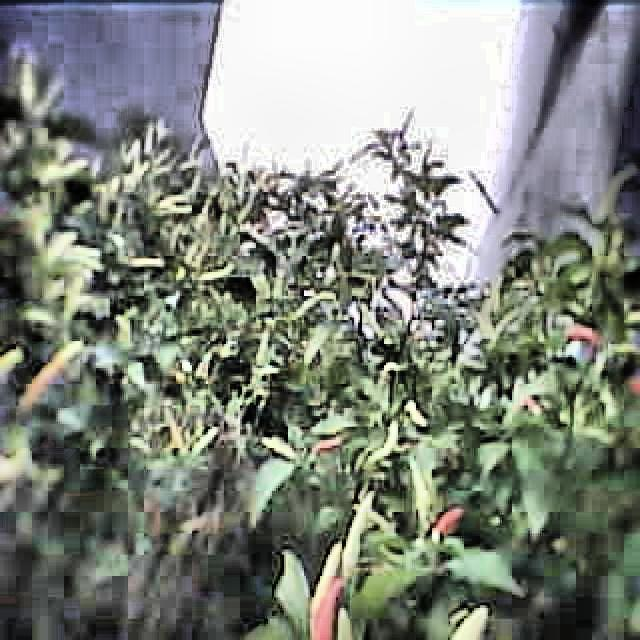Cabai: (20, 338, 79, 407), (317, 585, 358, 640), (429, 497, 474, 544), (310, 435, 353, 462)
